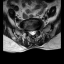CCS_normal: (31, 28, 33, 38)
LFS_stenosis: (36, 27, 38, 33)
LLS_normal: (33, 28, 36, 36)
RFS_severe_stenosis: (26, 28, 29, 35)
RLS_normal: (29, 28, 31, 36)
